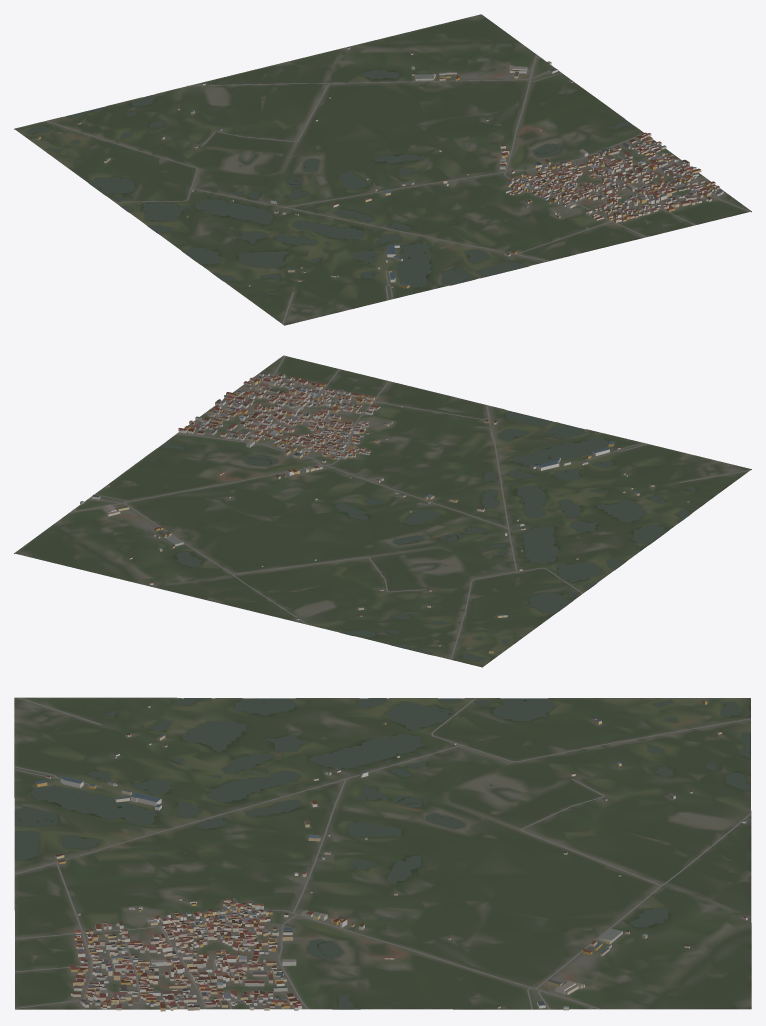
The picture shows the model from 3 angles, top to bottom: view 1: azimuth 30°, elevation 25°; view 2: azimuth 150°, elevation 25°; view 3: azimuth 270°, elevation 25°; orthographic projection. The views are drawn at different scales.
Parts seen in each view (by area): view 1: ground, water, buildings, roads; view 2: ground, water, buildings, roads; view 3: ground, water, buildings, roads.
Part boxes in pixels (x1,y1,x2,y2): ground: (14, 14, 751, 325); water: (26, 69, 632, 295); buildings: (37, 46, 723, 288); roads: (45, 54, 750, 324); ground: (14, 355, 751, 667); water: (151, 410, 695, 661); buildings: (80, 372, 689, 653); roads: (69, 355, 749, 659); ground: (14, 697, 751, 1009); water: (15, 698, 750, 1008); buildings: (35, 699, 747, 1011); roads: (14, 697, 751, 1009).
Size of the model in its own units: 1412 by 16.07 by 1404.
